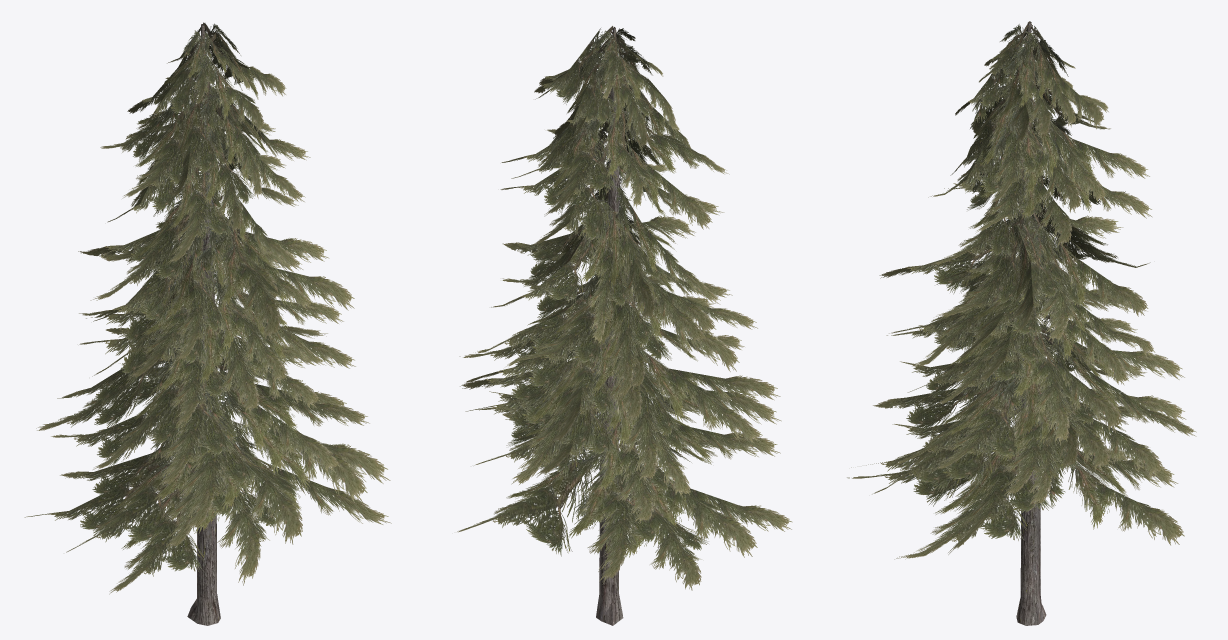
File: pine.glb
The picture shows the model from 3 angles, left to right: view 1: azimuth 30°, elevation 25°; view 2: azimuth 150°, elevation 25°; view 3: azimuth 270°, elevation 25°; orthographic projection.
Visible parts, largest first — view 1: pine; view 2: pine; view 3: pine.
Boxes of the visible parts, x1,y1,x2,y2 form: pine: [24, 22, 391, 625]; pine: [457, 26, 792, 625]; pine: [847, 21, 1196, 625].
Bounding box in the file's own units: 5.74 × 9.96 × 5.73.
1 material, 1 textured.
